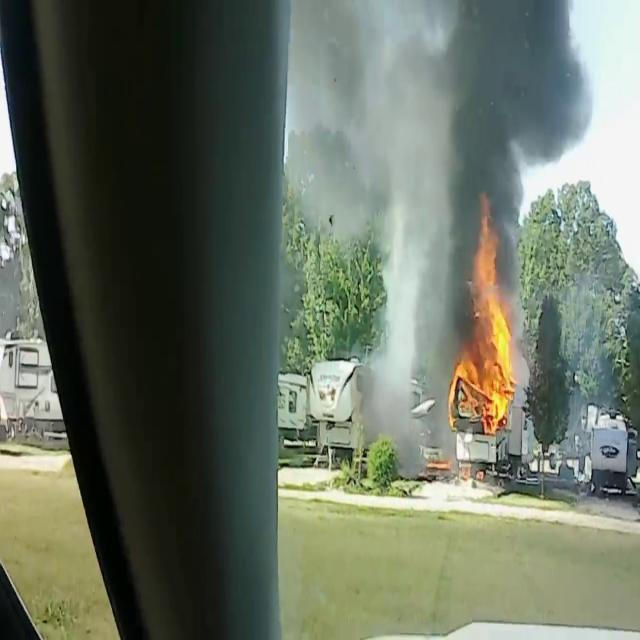Fire: (458, 198, 520, 430)
Smoke: (326, 1, 596, 388)
